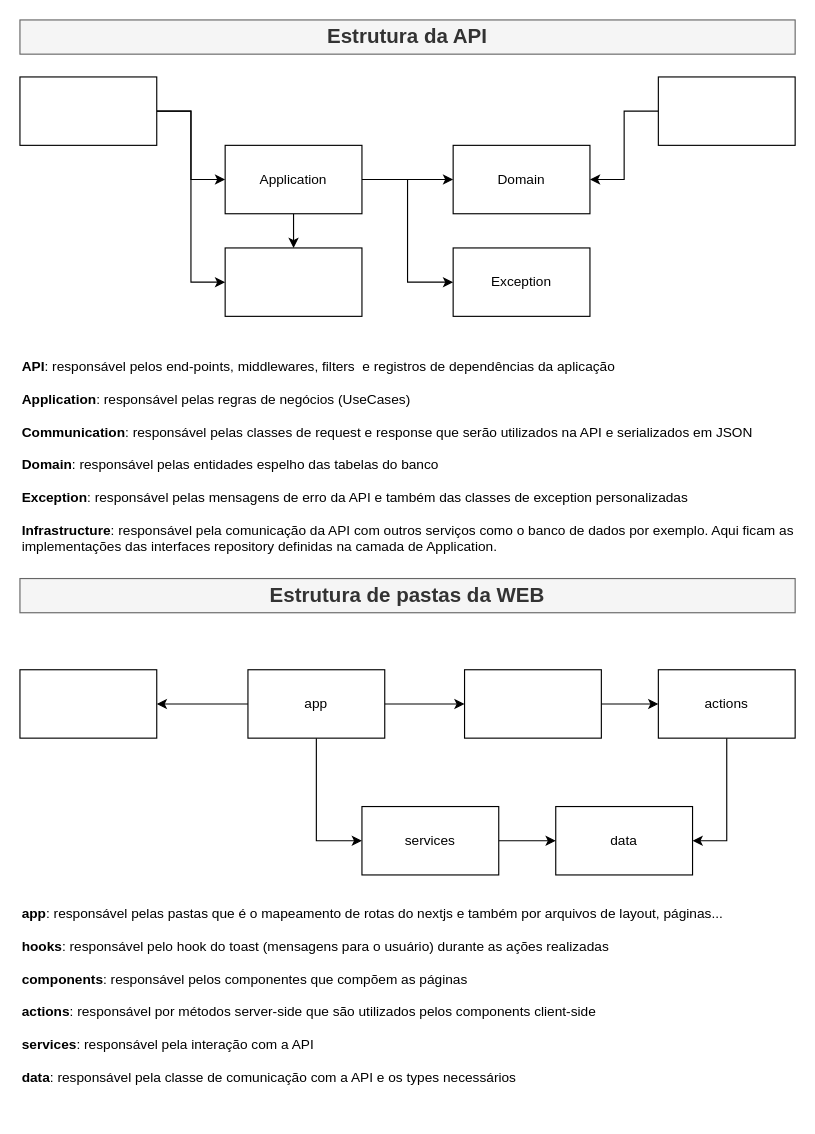
Some shapes in this 815 by 1134 pixel diagram are drawn without their labels. Here are the shapes that lost their labels. From the top down, the box of each, then its label:
(19, 76, 157, 145): API
(657, 76, 795, 145): Infrastructure
(224, 247, 362, 316): Communication
(19, 669, 157, 738): hooks
(463, 669, 601, 738): components
